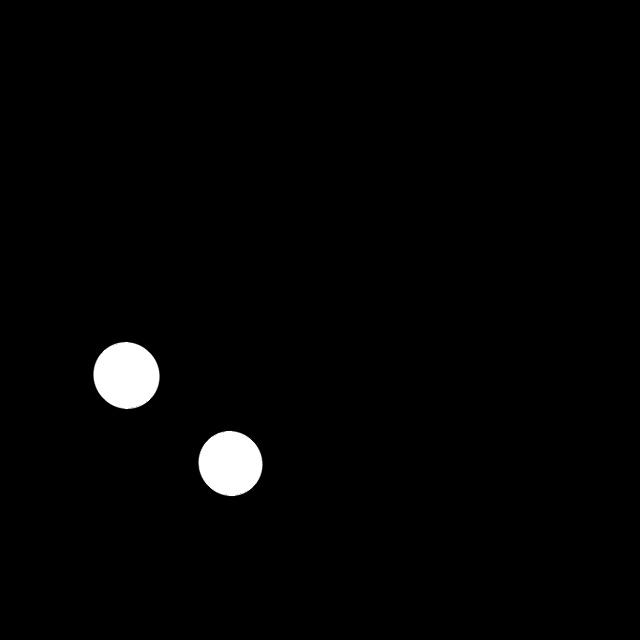Circle: (83, 331, 171, 420), (189, 419, 270, 510)
